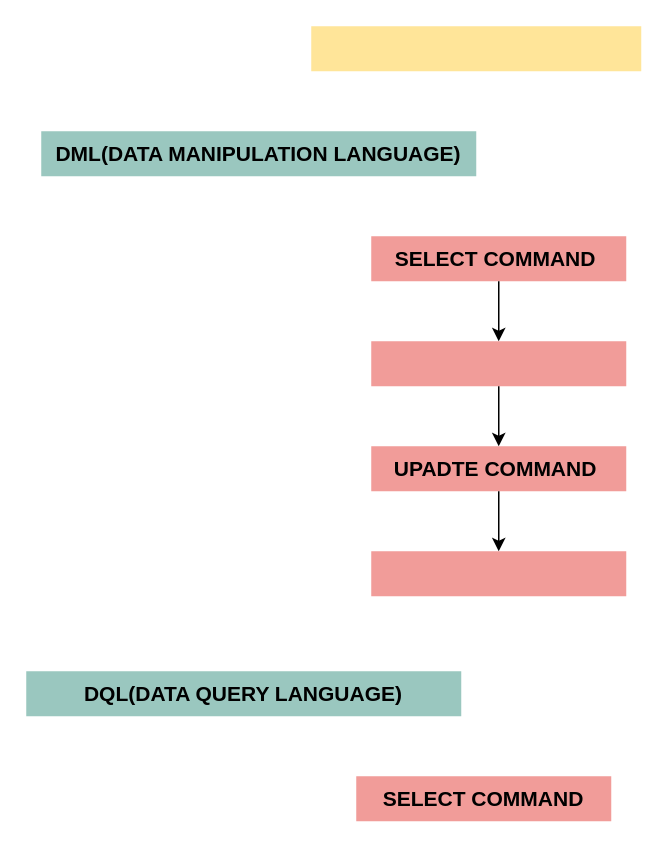
Some shapes in this 666 by 846 pixel diagram are drawn without their labels. Each missing label, with the centre of its shape:
"DELETE COMMAND" goes at (498,573).
"INSERT COMMAND" goes at (498,363).
"SQL COMMANDS" goes at (475,48).
